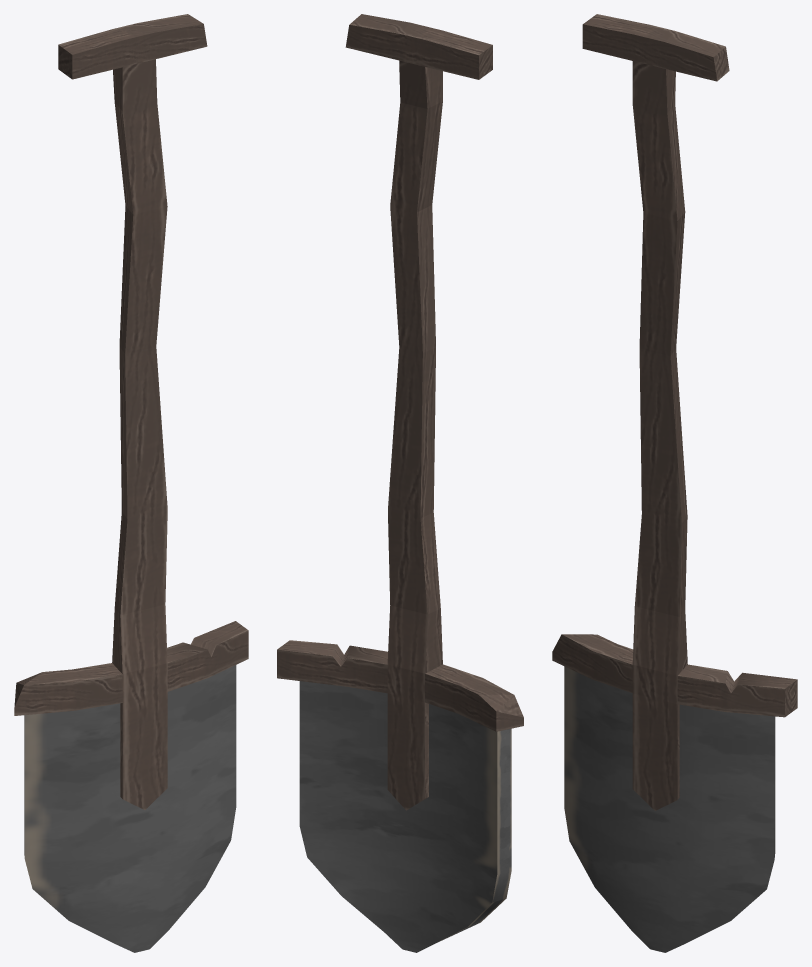
Rendered from SM_Shovel.fbx.
The picture shows the model from 3 angles, left to right: view 1: azimuth 30°, elevation 25°; view 2: azimuth 150°, elevation 25°; view 3: azimuth 330°, elevation 25°; orthographic projection.
Visible parts, largest first — view 1: Shovel; view 2: Shovel; view 3: Shovel.
Boxes of the visible parts, x1,y1,x2,y2 form: Shovel: [14, 14, 248, 952]; Shovel: [277, 14, 523, 952]; Shovel: [552, 14, 797, 952].
Size of the model in its own units: 12.63 by 47.35 by 2.47.
